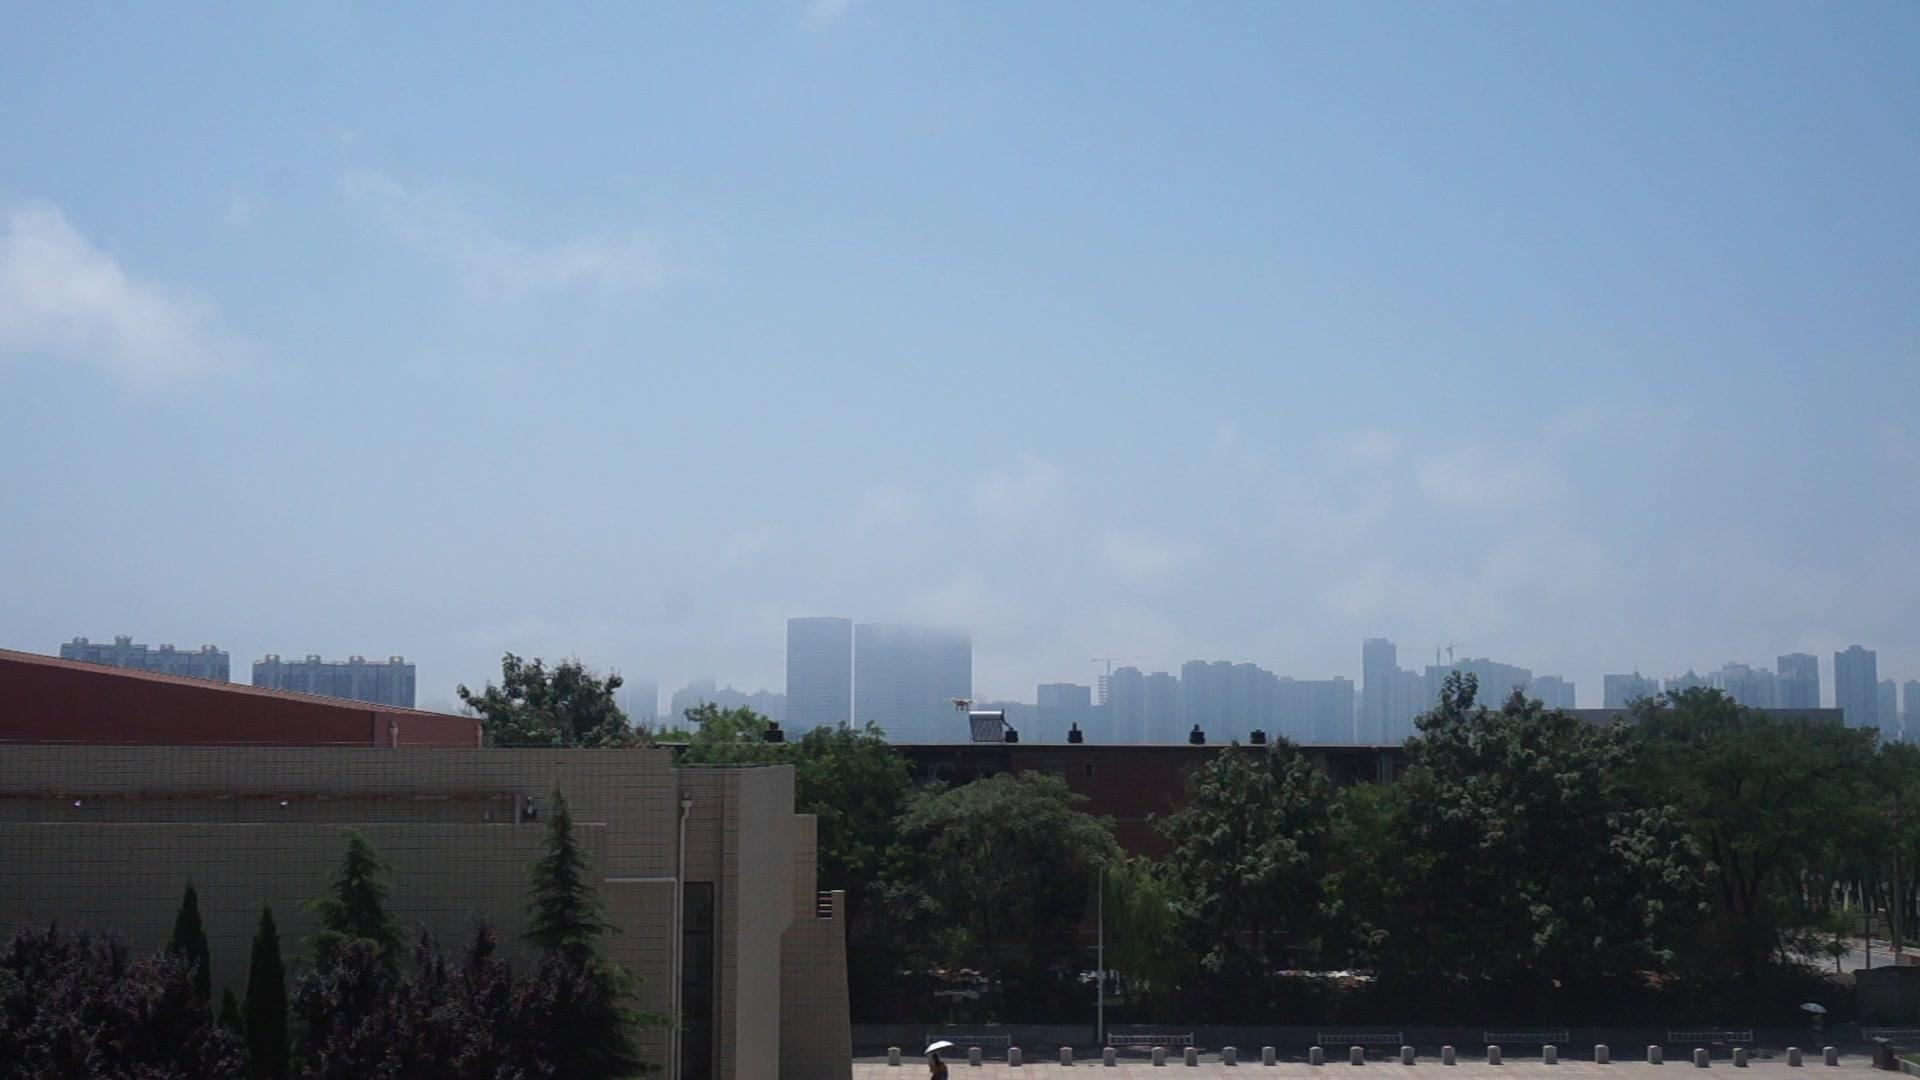UAV: (943, 698, 977, 713)
